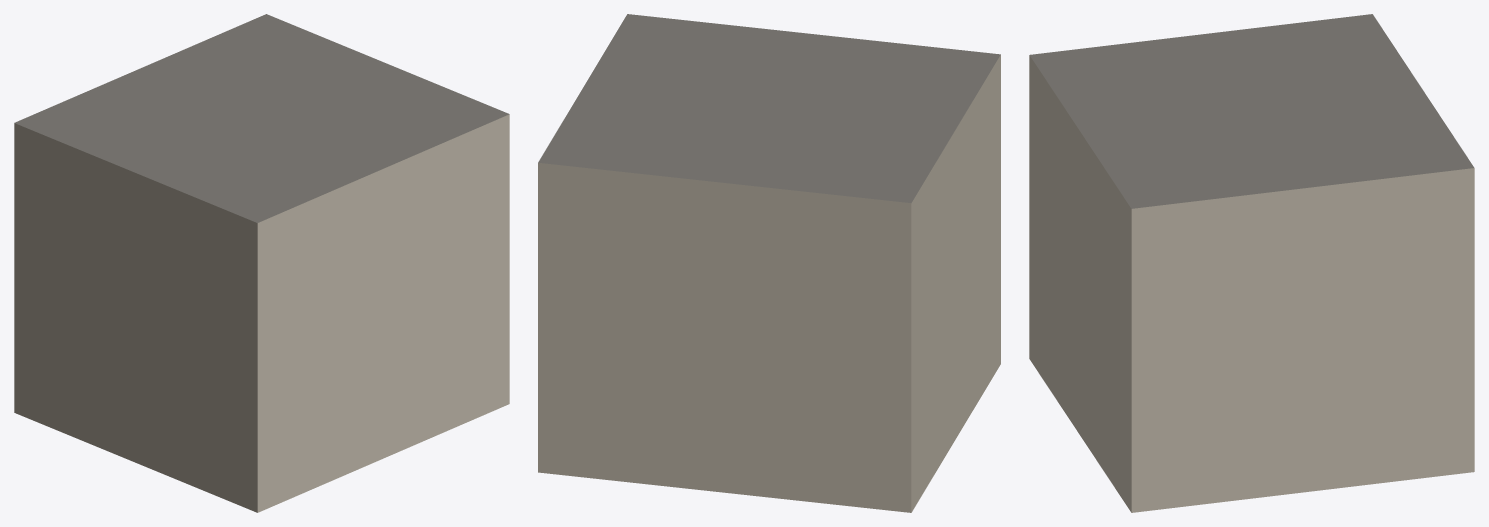
3 renders of one model, left to right at view 1: azimuth 30°, elevation 25°; view 2: azimuth 150°, elevation 25°; view 3: azimuth 270°, elevation 25°, orthographic. The views are drawn at different scales.
Visible parts, largest first — view 1: HP-w859447884; view 2: HP-w859447884; view 3: HP-w859447884.
Part boxes in pixels (x1=…): HP-w859447884: x1=14, y1=14, x2=509, y2=512; HP-w859447884: x1=538, y1=14, x2=1000, y2=512; HP-w859447884: x1=1029, y1=14, x2=1474, y2=512.
Bounding box in the file's own units: 24.75 × 18 × 23.88.
